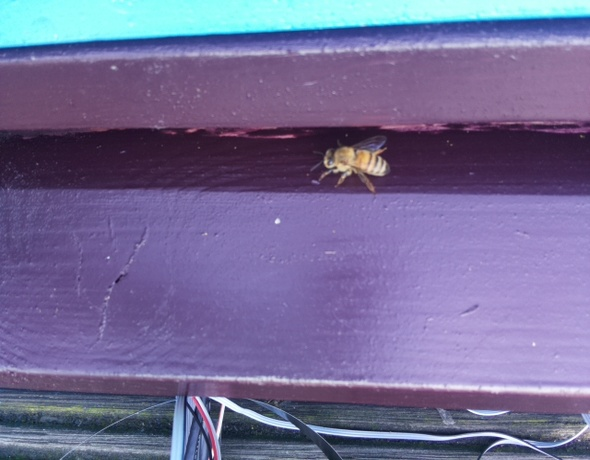no_pollen: (316, 136, 394, 196)
